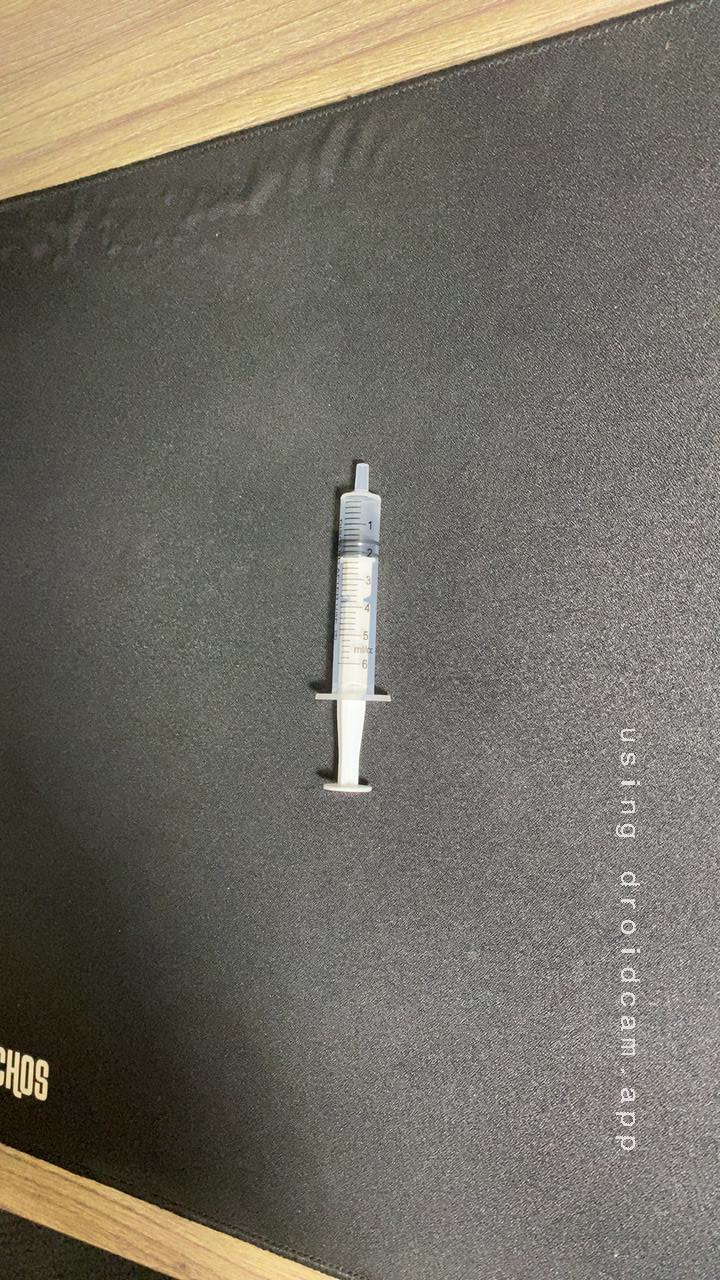syringe: (277, 438, 436, 803)
